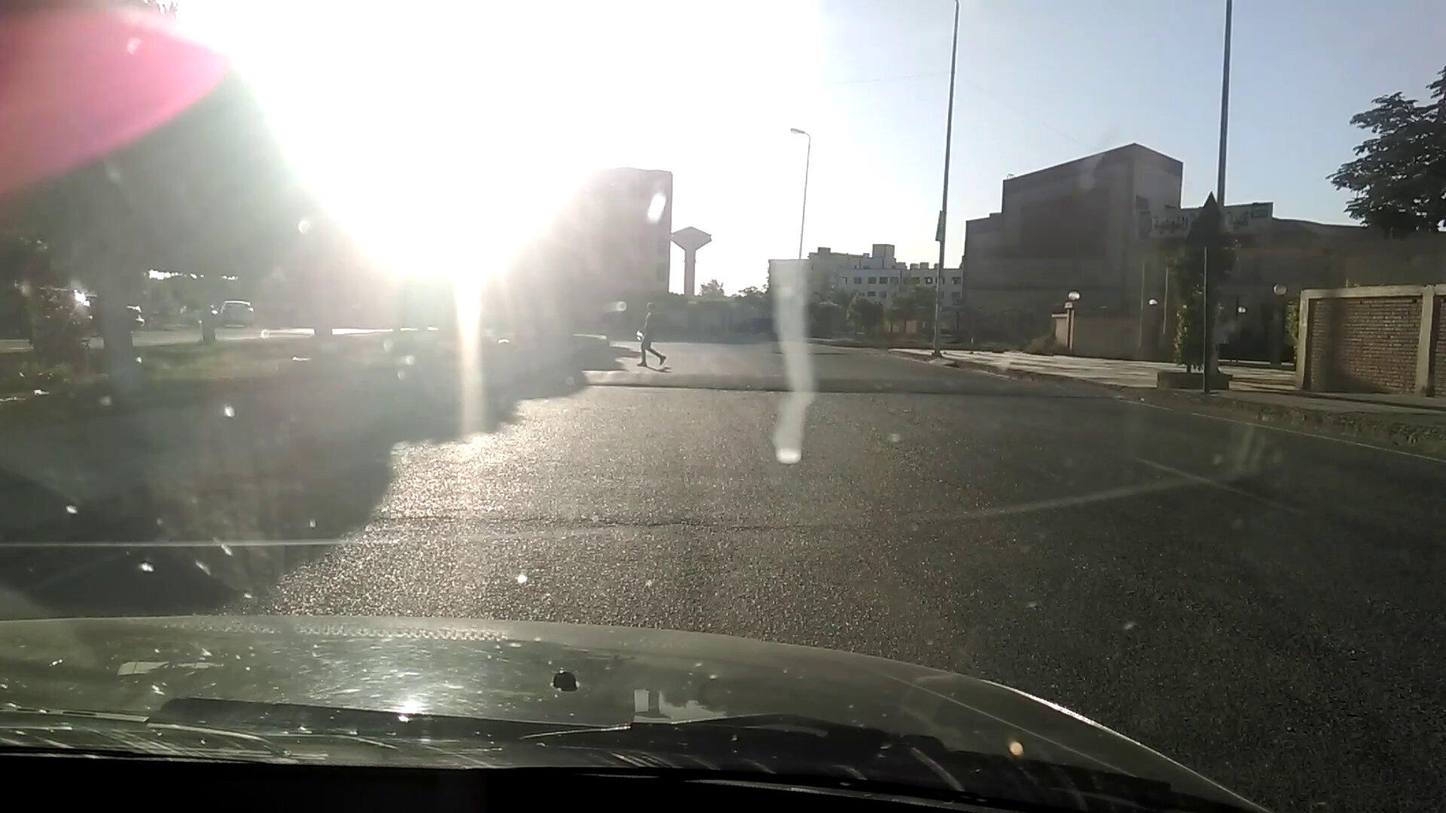Bump: (559, 361, 1124, 391)
